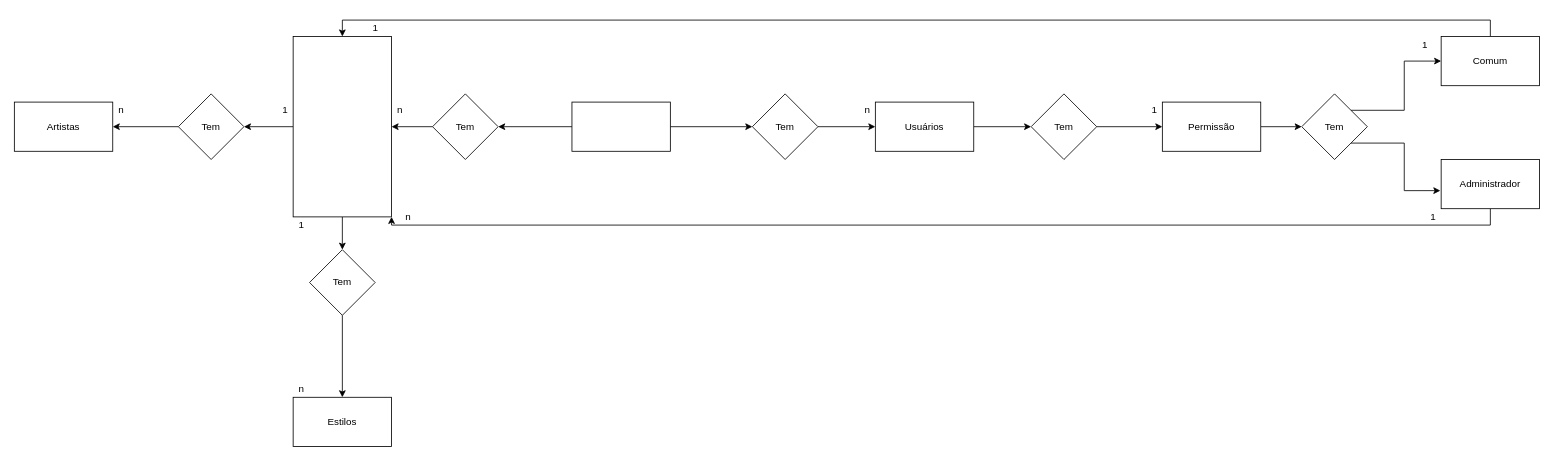
The diagram is 1554 pixels wide and 461 high, and some of its shapes have lost their labels. Here are the shapes that lost their labels. From the top down, the centre of each, then its label:
point (342, 126): Álbuns
point (620, 126): Optus
